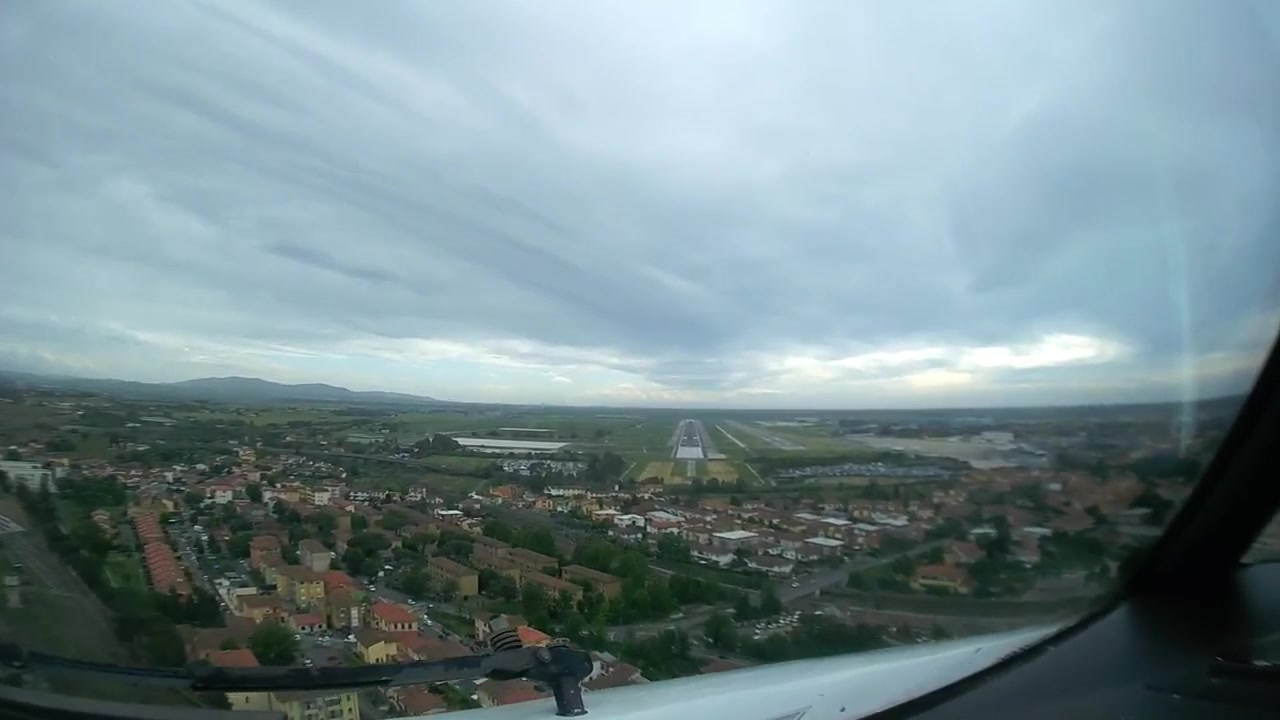runway: (676, 420, 704, 448)
